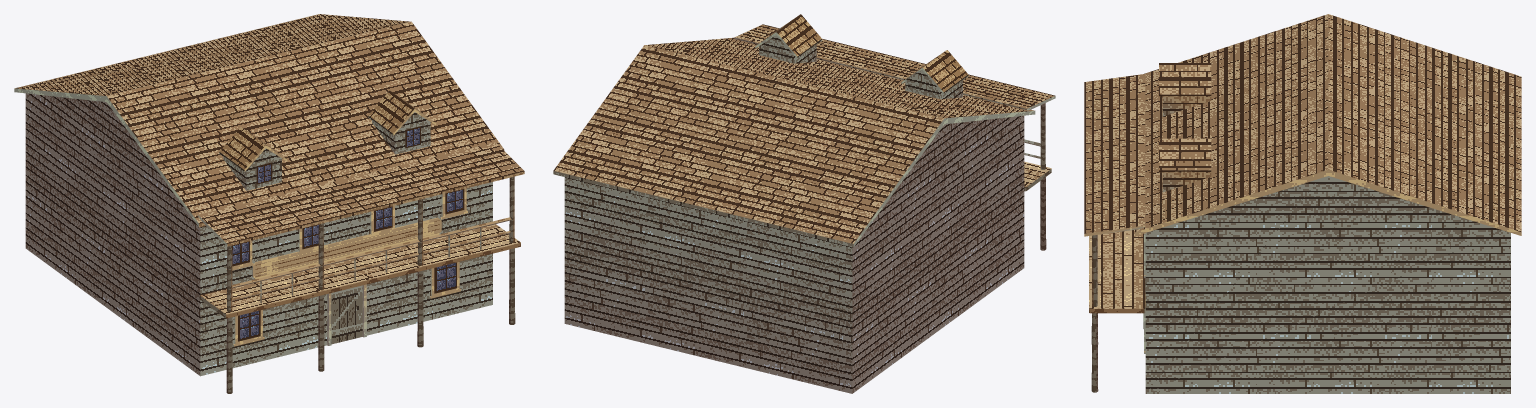
Rendered from wtown.hotel__grand.glb.
3 renders of one model, left to right at view 1: azimuth 30°, elevation 25°; view 2: azimuth 150°, elevation 25°; view 3: azimuth 270°, elevation 25°, orthographic. The views are drawn at different scales.
Parts seen in each view (by area): view 1: kit_body, kit_roof, kit_veranda, kit_veranda_roof, kit_card_panes, kit_dormer_roofs, kit_dormers, kit_windows, kit_trim; view 2: kit_body, kit_roof, kit_veranda_roof, kit_dormer_roofs, kit_dormers, kit_veranda; view 3: kit_body, kit_roof, kit_veranda_roof, kit_veranda, kit_dormer_roofs, kit_dormers.
Boxes of the visible parts, <box> form: kit_body: <box>25,93,492,376</box>; kit_roof: <box>14,14,504,227</box>; kit_veranda: <box>199,176,520,393</box>; kit_veranda_roof: <box>198,142,524,246</box>; kit_card_panes: <box>232,126,464,344</box>; kit_dormer_roofs: <box>219,90,436,171</box>; kit_dormers: <box>223,112,430,190</box>; kit_windows: <box>226,188,467,346</box>; kit_trim: <box>252,217,441,345</box>; kit_body: <box>564,115,1024,393</box>; kit_roof: <box>553,37,1035,247</box>; kit_veranda_roof: <box>734,24,1055,110</box>; kit_dormer_roofs: <box>755,14,968,93</box>; kit_dormers: <box>759,34,962,99</box>; kit_veranda: <box>1024,103,1051,250</box>; kit_body: <box>1145,176,1510,393</box>; kit_roof: <box>1135,14,1521,235</box>; kit_veranda_roof: <box>1084,74,1145,236</box>; kit_veranda: <box>1089,230,1145,392</box>; kit_dormer_roofs: <box>1159,63,1211,172</box>; kit_dormers: <box>1162,96,1211,192</box>.
Bounding box in the file's own units: 12.1 × 8.25 × 14.37.
Materials: 10 (10 with a texture image).
